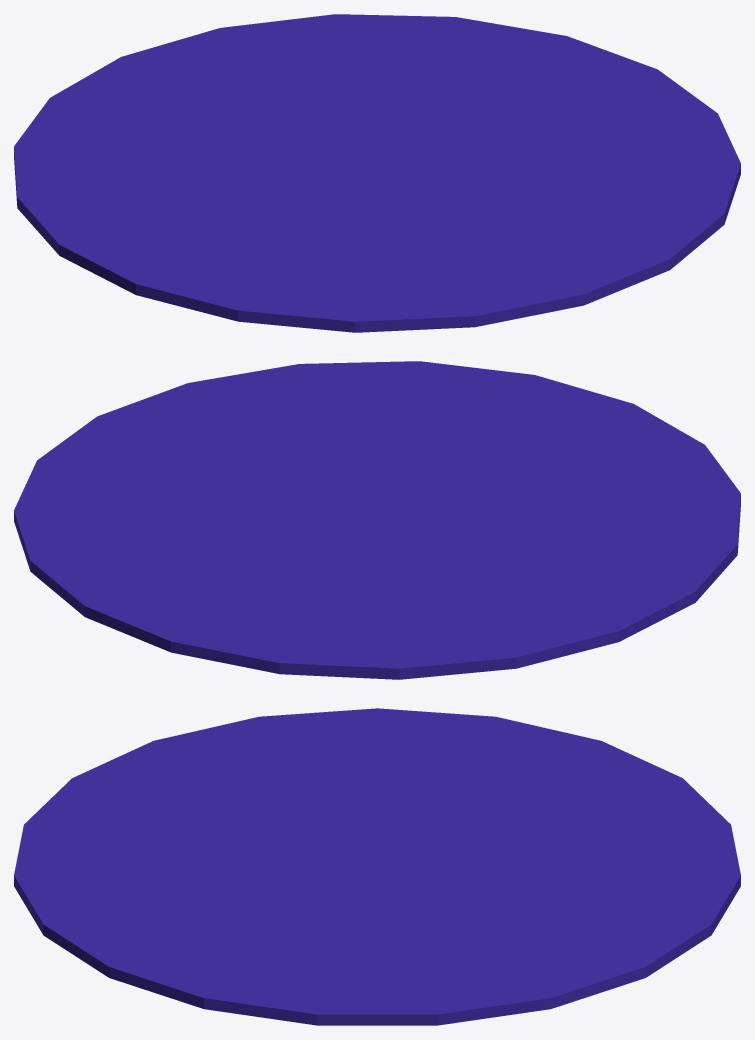
File: floor.glb
3 renders of one model, top to bottom at view 1: azimuth 30°, elevation 25°; view 2: azimuth 150°, elevation 25°; view 3: azimuth 270°, elevation 25°, orthographic.
Parts seen in each view (by area): view 1: Floor; view 2: Floor; view 3: Floor.
Part boxes in pixels (box(x1,y1,x2,y2)): Floor: box(14, 14, 740, 332); Floor: box(14, 361, 740, 679); Floor: box(14, 708, 740, 1025).
Size of the model in its own units: 82.42 by 1.39 by 82.7.
